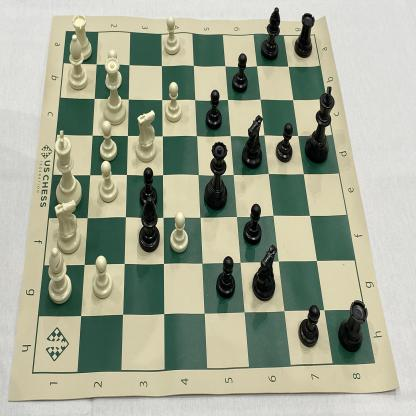black-bishop: (137, 197, 161, 255), (260, 5, 282, 62)
black-king: (304, 85, 337, 166)
black-knight: (251, 241, 280, 304), (240, 113, 264, 170)
black-pawn: (296, 303, 321, 349), (215, 255, 236, 300), (243, 203, 263, 248), (275, 122, 295, 164), (138, 167, 158, 207), (231, 52, 250, 94), (205, 88, 223, 131)
black-queen: (203, 141, 230, 213)
black-rook: (336, 298, 369, 355), (294, 11, 316, 59)
white-bishop: (63, 36, 91, 91), (46, 247, 73, 304)
white-king: (53, 129, 83, 208)
white-knight: (52, 198, 83, 255), (134, 109, 160, 163)
white-pawn: (89, 254, 114, 301), (96, 161, 119, 204), (164, 81, 184, 126), (169, 210, 189, 255), (98, 119, 118, 162), (162, 13, 181, 58), (104, 48, 123, 92)
white-queen: (103, 58, 127, 127)
white-rook: (68, 9, 95, 63)
